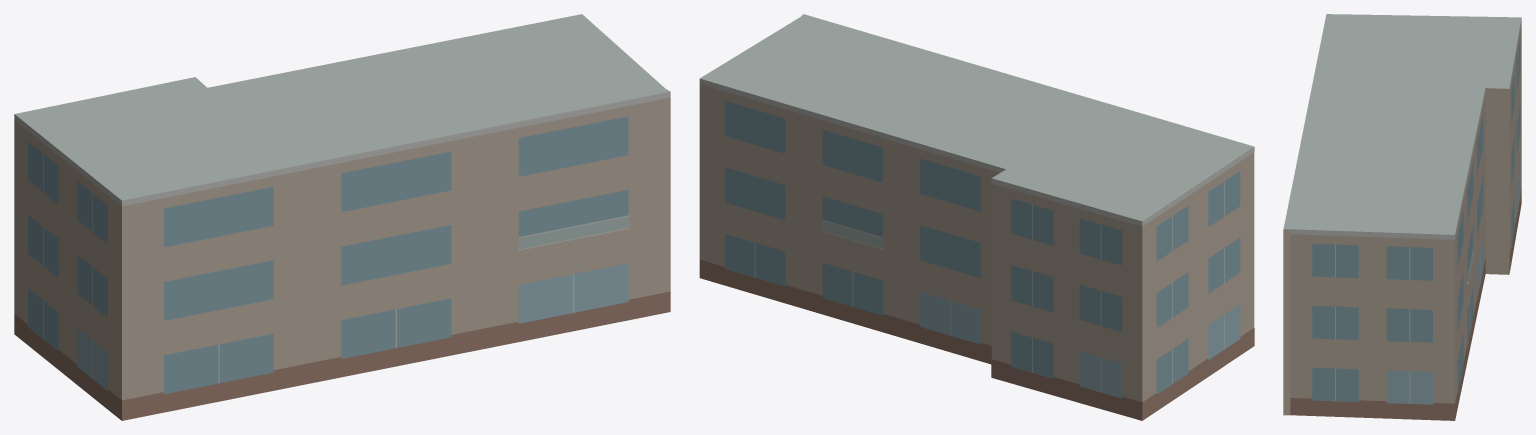
Rendered from survey-upis-32808350.glb.
3 renders of one model, left to right at view 1: azimuth 30°, elevation 25°; view 2: azimuth 150°, elevation 25°; view 3: azimuth 270°, elevation 25°, orthographic. The views are drawn at different scales.
Visible parts, largest first — view 1: survey-upis-32808350.tmp; view 2: survey-upis-32808350.tmp; view 3: survey-upis-32808350.tmp.
Boxes of the visible parts, x1,y1,x2,y2 form: survey-upis-32808350.tmp: (14,14,670,420); survey-upis-32808350.tmp: (699,14,1254,420); survey-upis-32808350.tmp: (1283,14,1521,420).
Bounding box in the file's own units: 23.33 × 9.15 × 10.64.
